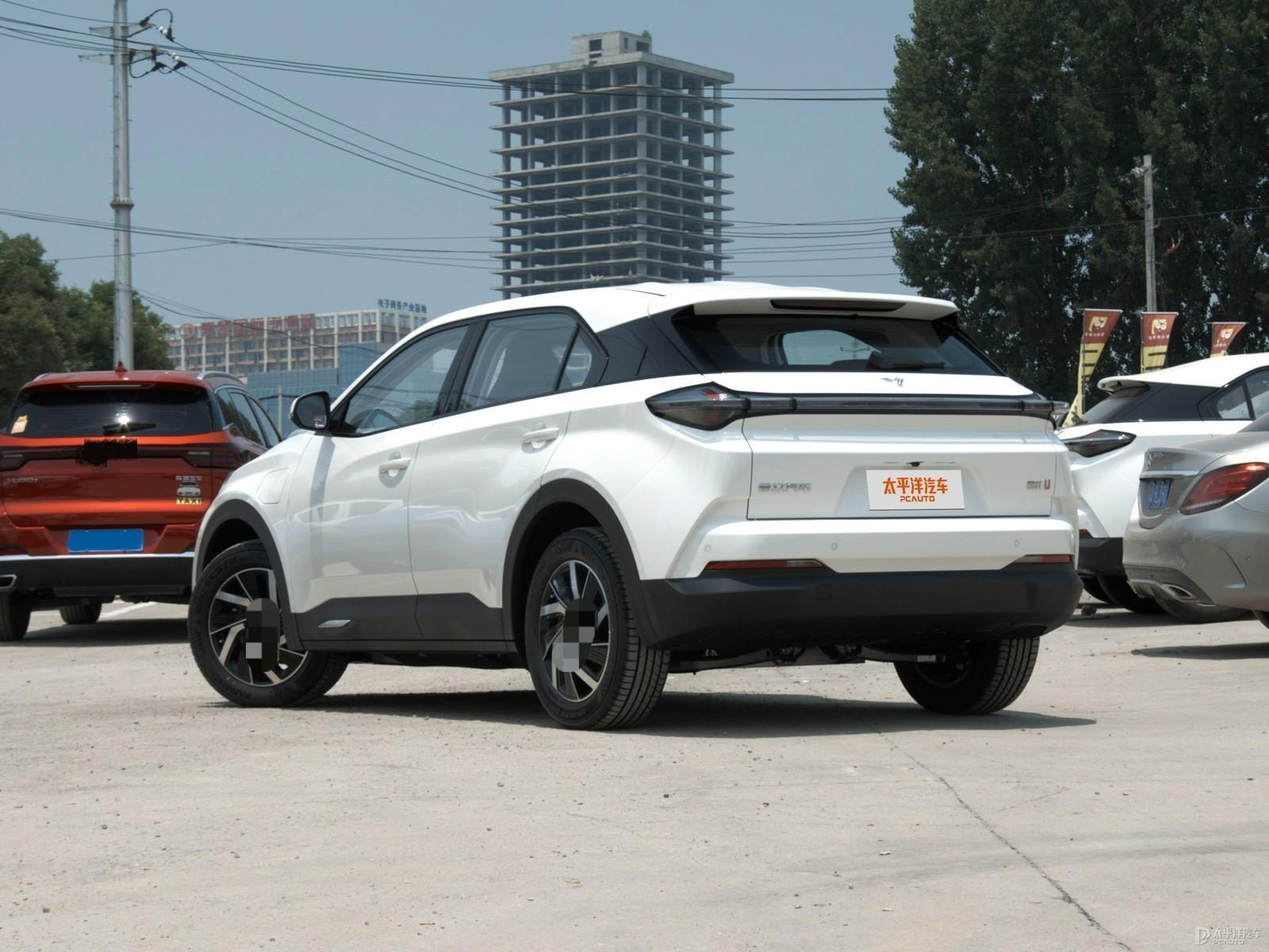NETA: (881, 376, 904, 390)
